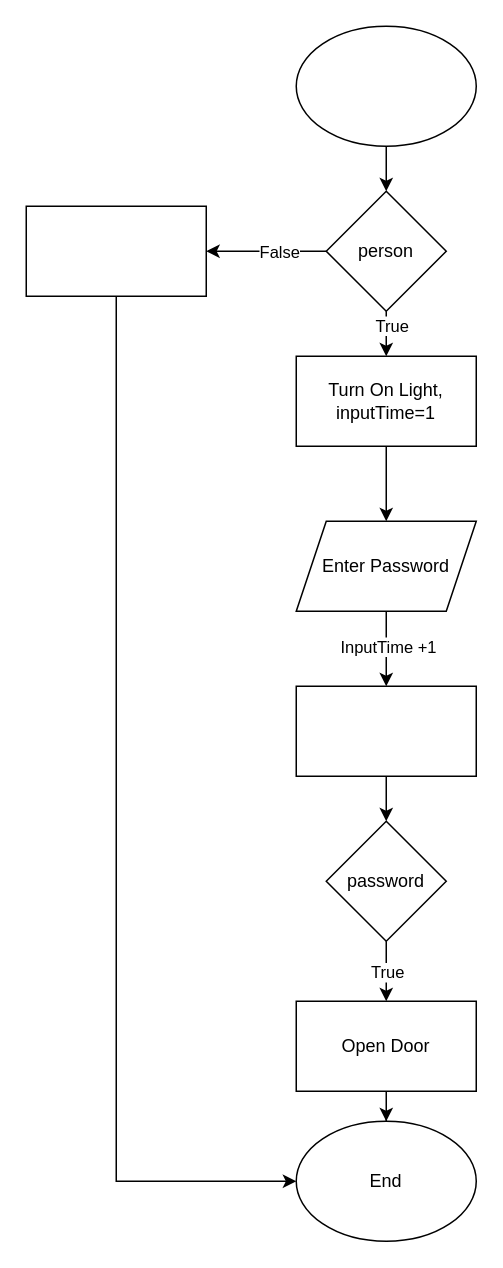
Image size: 503x1268. Some labels were removed from this diagram. The shapes that lost their labels are listed below. From the top down, each one's box as (x1, y1, x2, y2) in pixels, then its label:
(295, 25, 476, 146): START
(25, 205, 206, 296): Turn Off Light
(295, 685, 476, 776): Check Password
